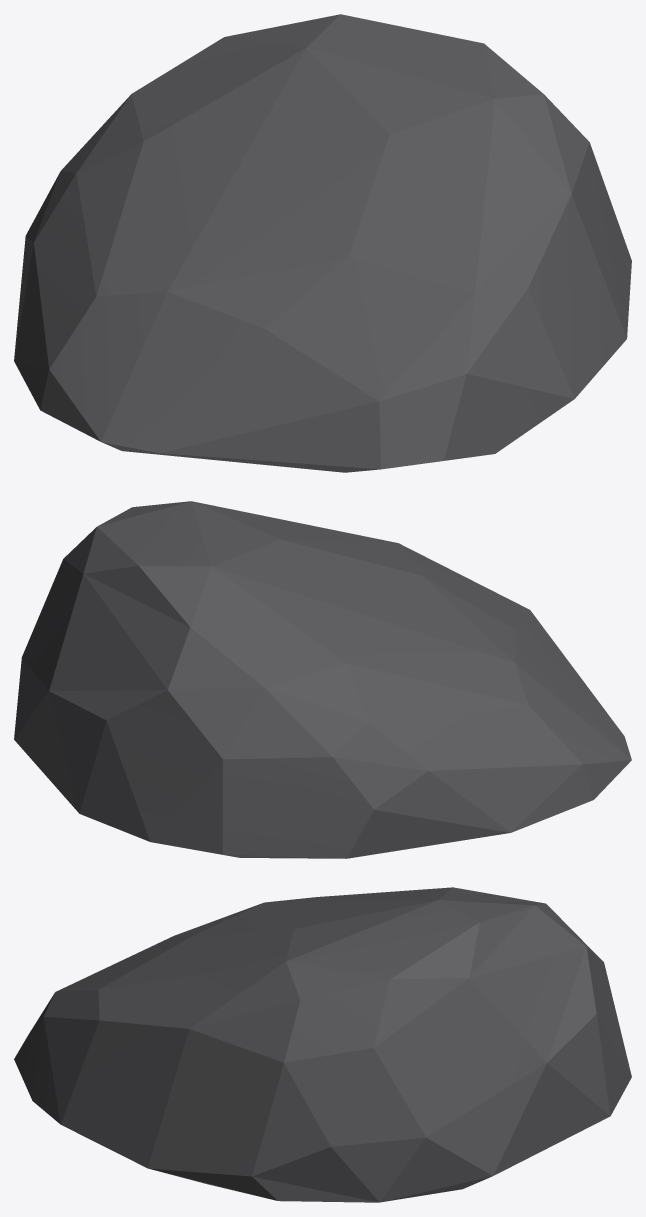
The model's file is Piedra_05.glb.
The picture shows the model from 3 angles, top to bottom: view 1: azimuth 30°, elevation 25°; view 2: azimuth 150°, elevation 25°; view 3: azimuth 270°, elevation 25°; orthographic projection. The views are drawn at different scales.
Visible parts, largest first — view 1: SM_Env_Rock_07_1; view 2: SM_Env_Rock_07_1; view 3: SM_Env_Rock_07_1.
Boxes of the visible parts, x1,y1,x2,y2 form: SM_Env_Rock_07_1: (14, 14, 631, 472); SM_Env_Rock_07_1: (14, 501, 631, 858); SM_Env_Rock_07_1: (14, 887, 631, 1202).
Size of the model in its own units: 1.44 by 0.6368 by 1.47.
Materials: 1 (1 with a texture image).
